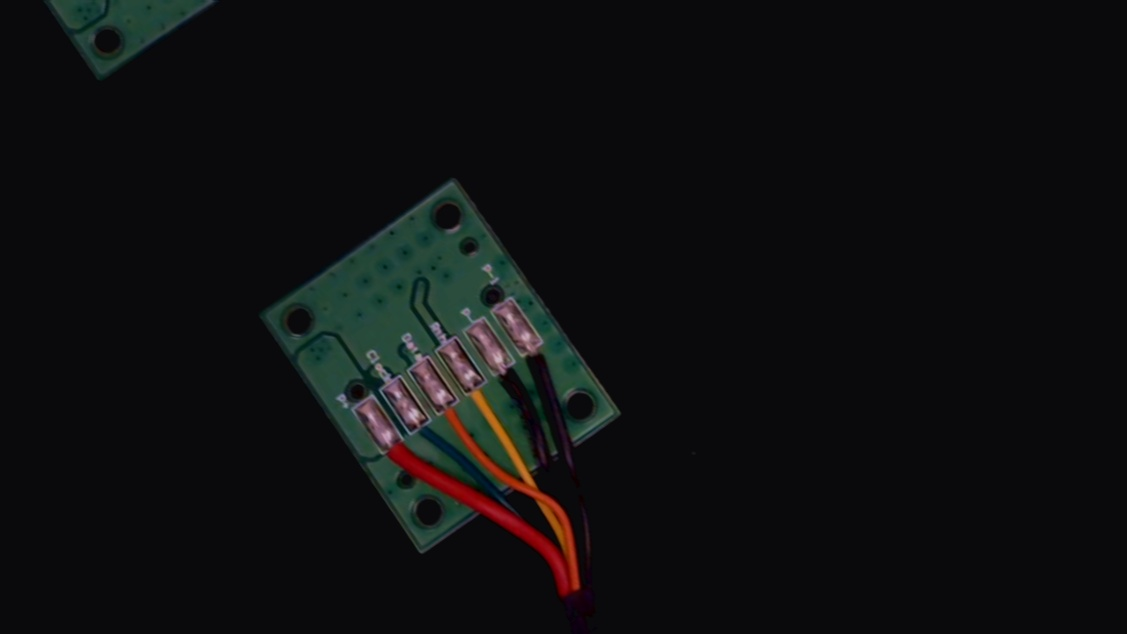Black: (482, 349, 543, 419)
Black1: (511, 329, 569, 394)
Green: (399, 403, 459, 471)
Orange: (428, 385, 487, 453)
Red: (372, 427, 431, 495)
Yellow: (455, 366, 516, 437)
